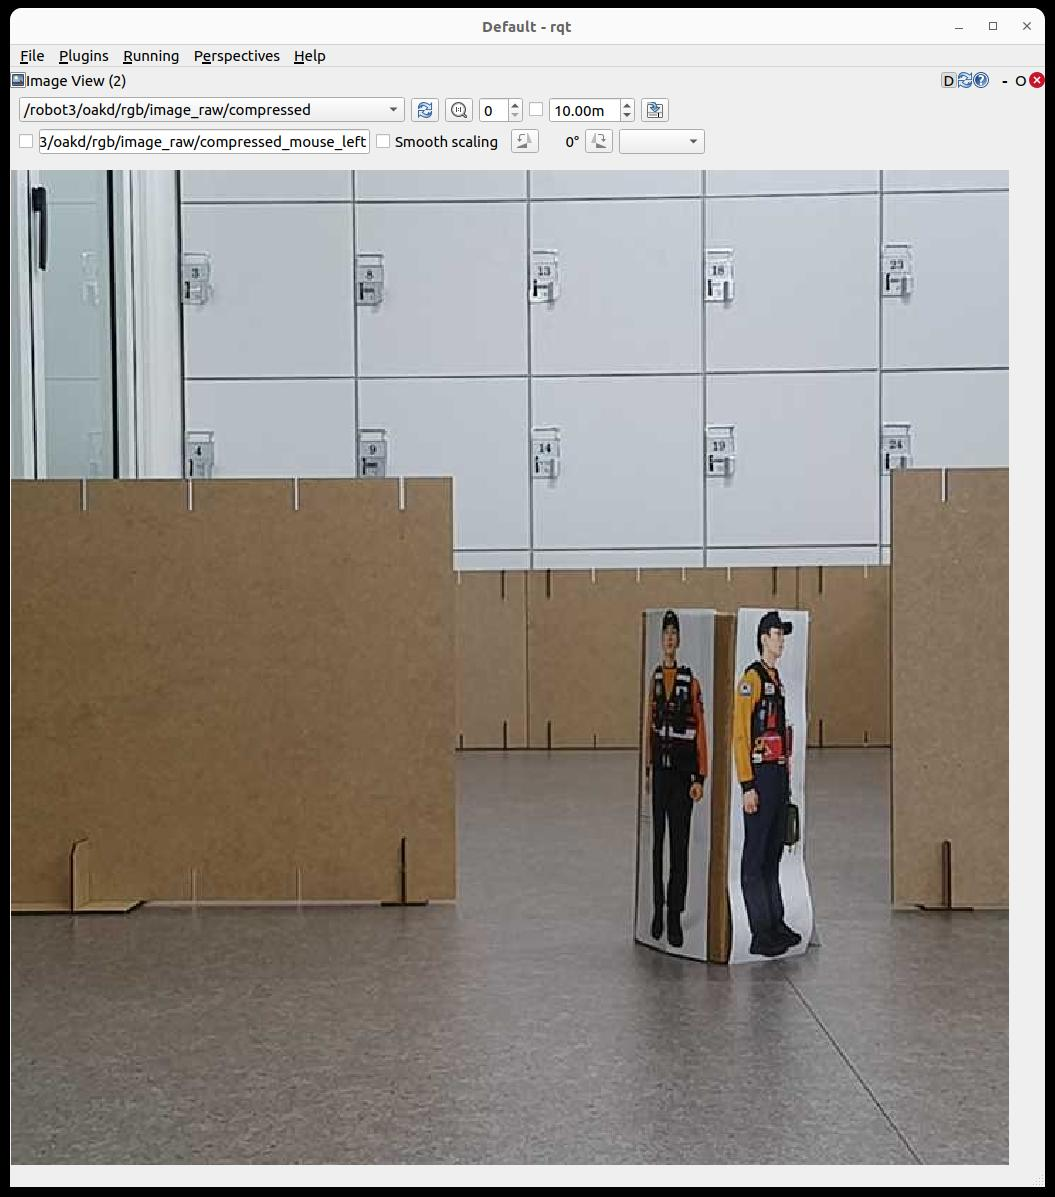Responder: (734, 611, 800, 955), (646, 613, 705, 943)
